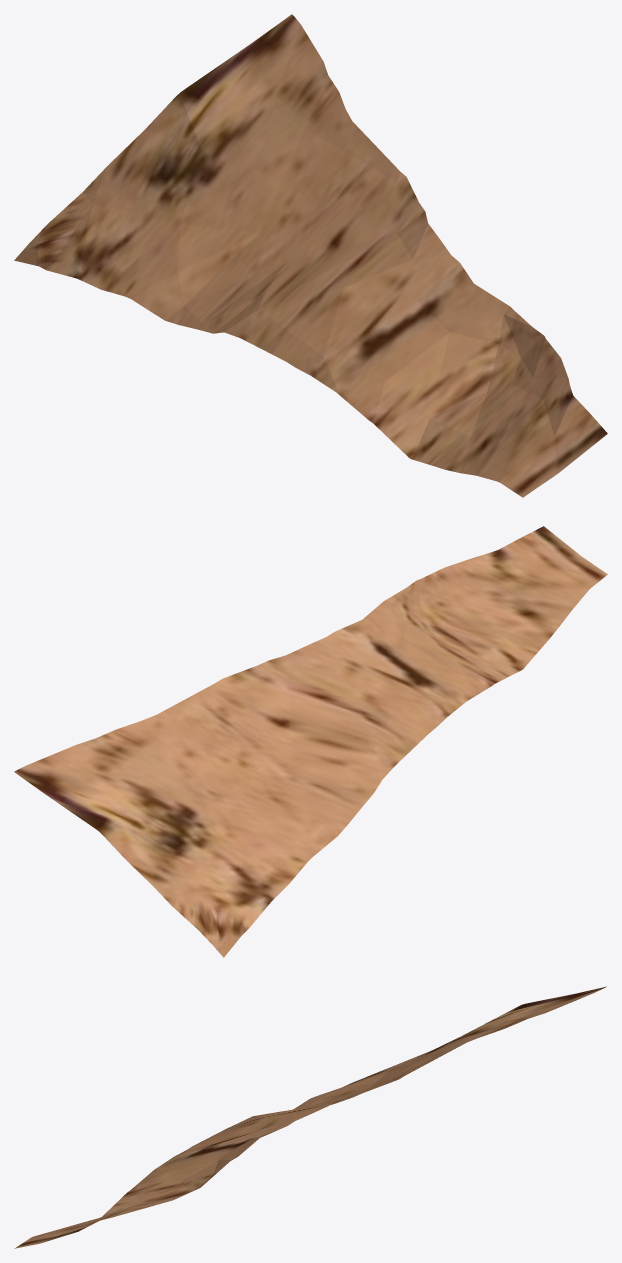
3 renders of one model, top to bottom at view 1: azimuth 30°, elevation 25°; view 2: azimuth 150°, elevation 25°; view 3: azimuth 330°, elevation 25°, orthographic. The views are drawn at different scales.
Size of the model in its own units: 0.3293 by 0.2023 by 1.04.
1 material, 1 textured.
